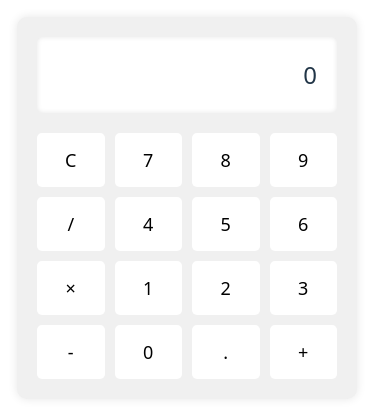
Test: Calculator › displays numbers when clicked
The image size is (375, 417).
Click the button with test id "digit-5".
click(226, 224)  # box [192,197,260,251]
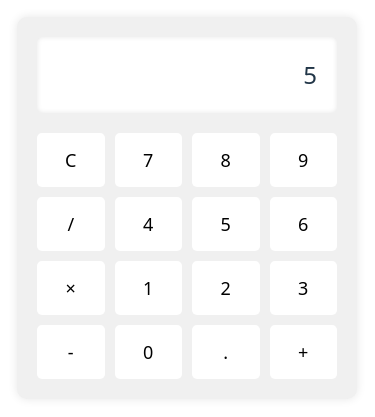
Check: the text with test id "display" reads "5", box [303,58,317,91]
